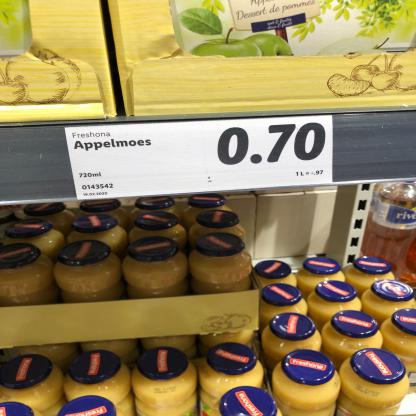prtg: (65, 117, 334, 201)
